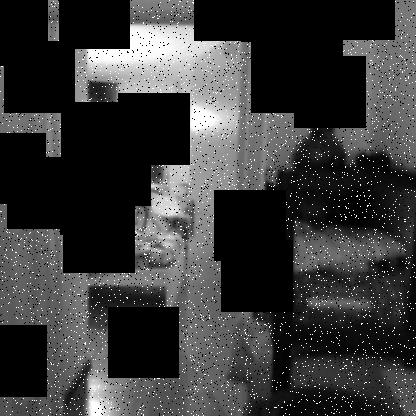Porte: (26, 0, 276, 415)
